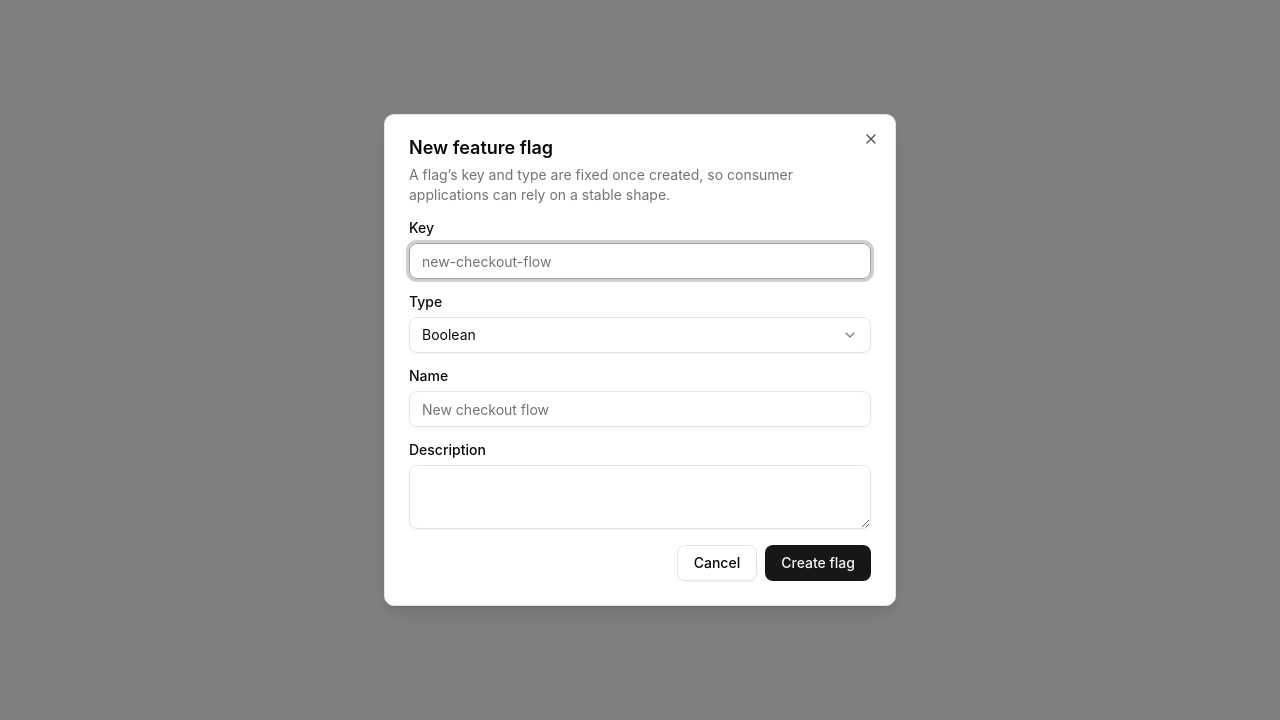
Test: FeatureFlagForm › rejects a key containing characters outside letters, numbers, hyphens, and underscores
Type "bad key!" into the field labelled "Key" at [640, 261], box [409, 243, 871, 279]
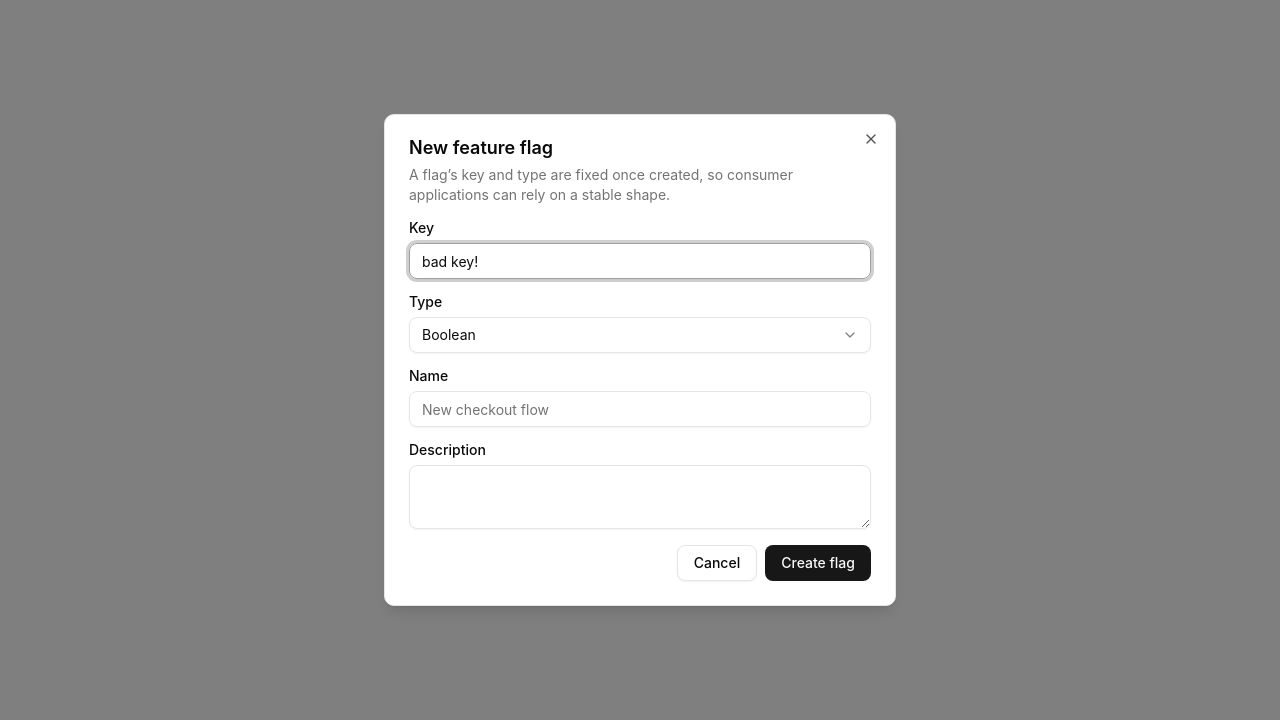
Type "Bad key flag" into the field labelled "Name" at [640, 409], box [409, 391, 871, 427]
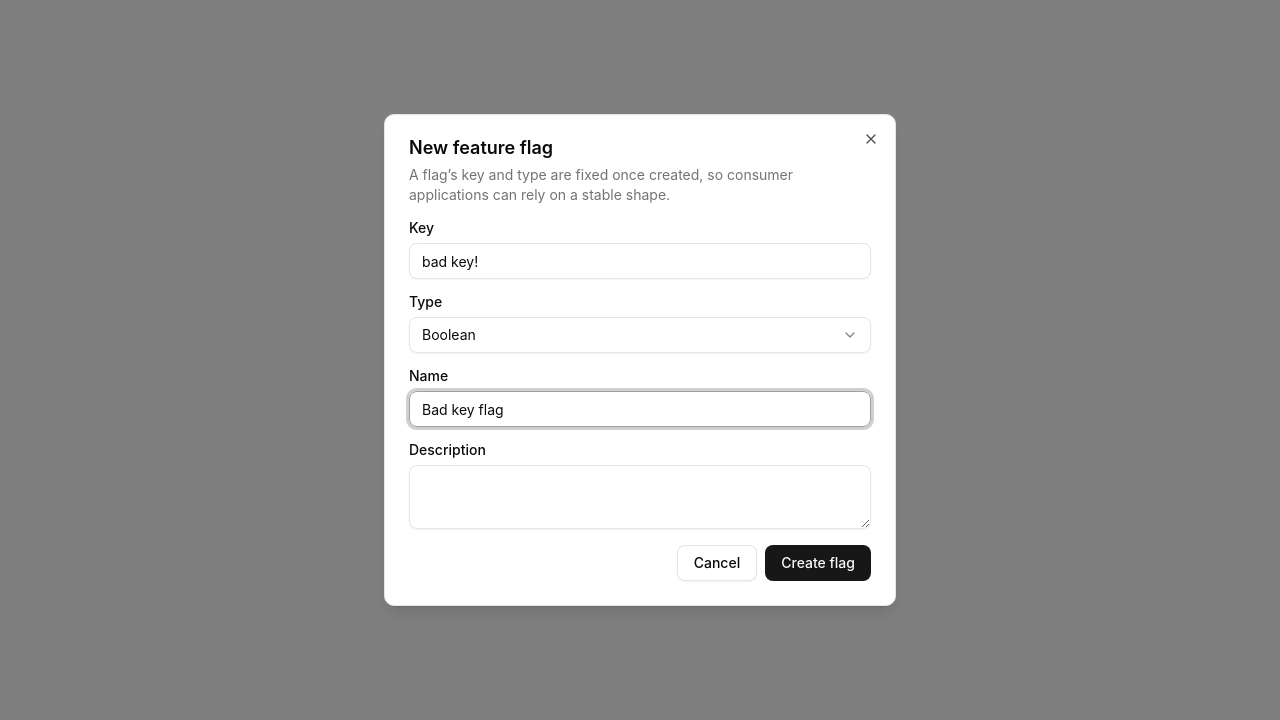
Click the button "Create flag" at [818, 563], box [765, 545, 871, 581]
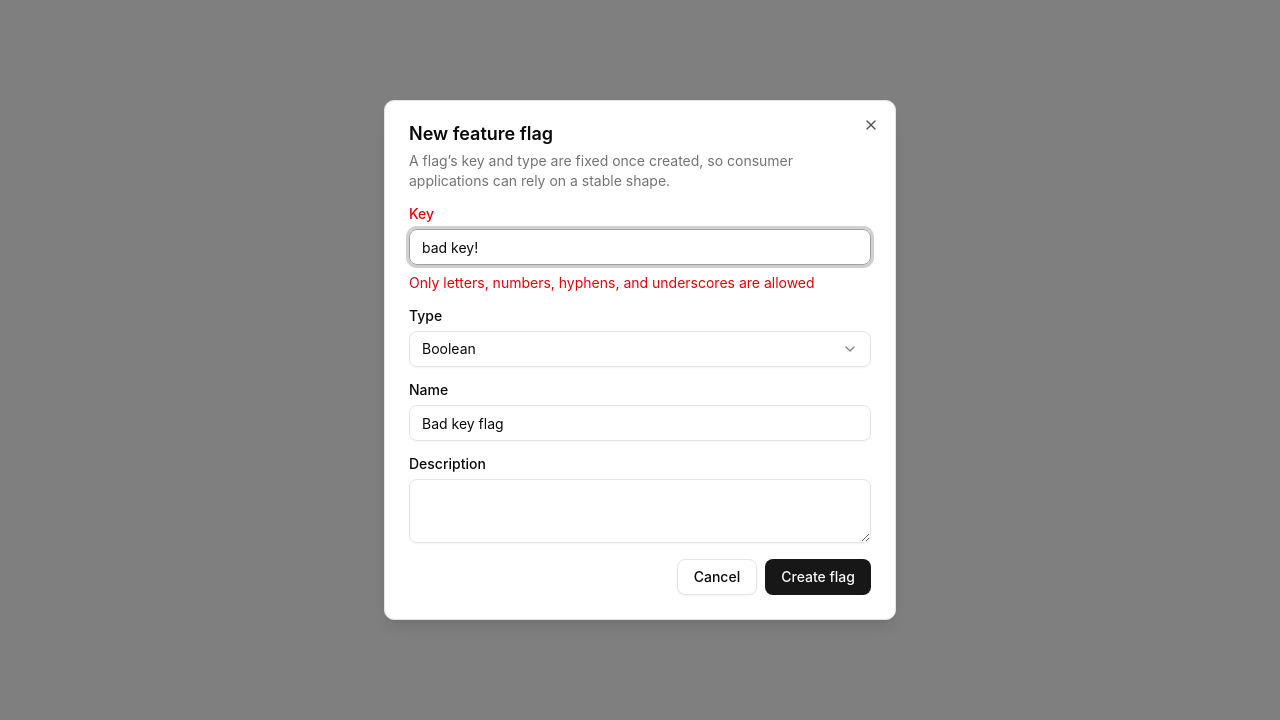
Expected: the text "Only letters, numbers, hyphens, and underscores are allowed" is shown, [409, 273, 871, 293]
